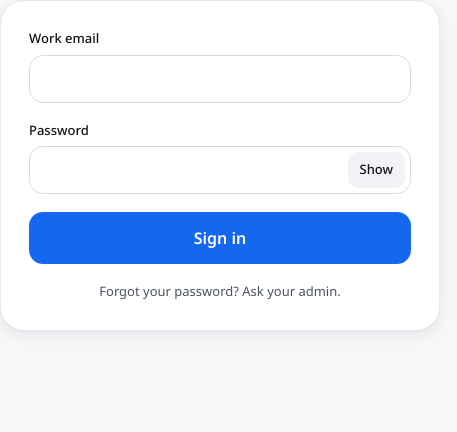
SignInForm › shows one fixed message when locked, and stays usable
The image size is (457, 432).
Type "a@example.com" into the field labelled "Work email" at (220, 78), box [29,54,411,102]
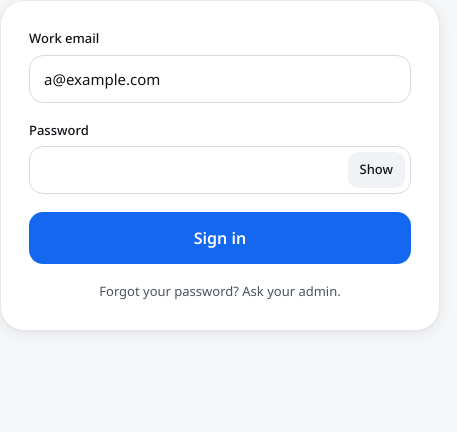
Type "secret" into the password field labelled "Password" at (220, 170), box [29,146,411,194]
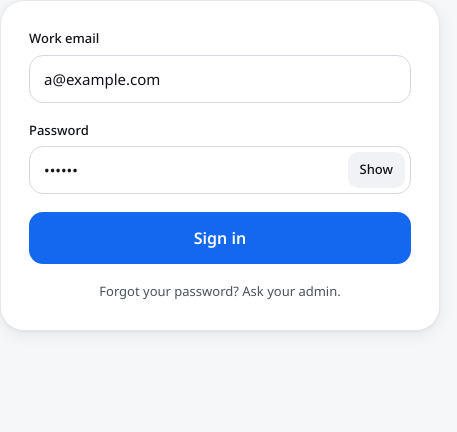
Click the button "Sign in" at (220, 238), box [29,212,411,264]
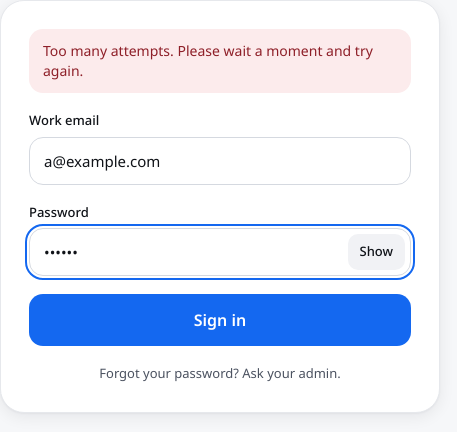
Expected: the button "Sign in" is enabled, [29,294,411,346]
Expected: the message shows "Too many attempts", [43,41,373,80]
